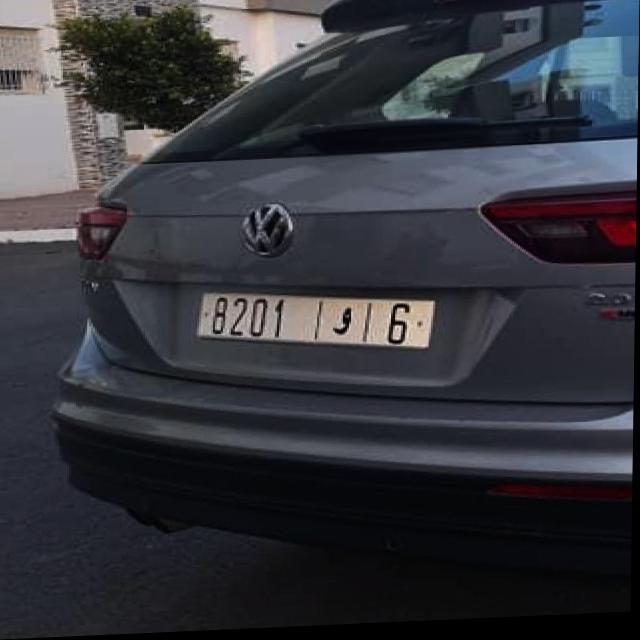License-Plate: (198, 294, 437, 352)
